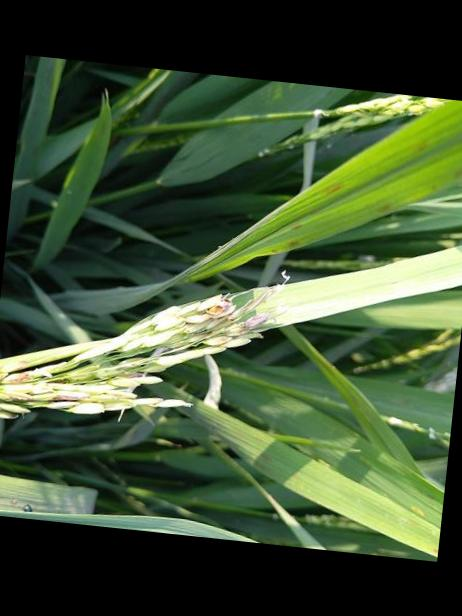Panicle Blight: (180, 290, 270, 346), (0, 372, 93, 412), (0, 399, 29, 419)
